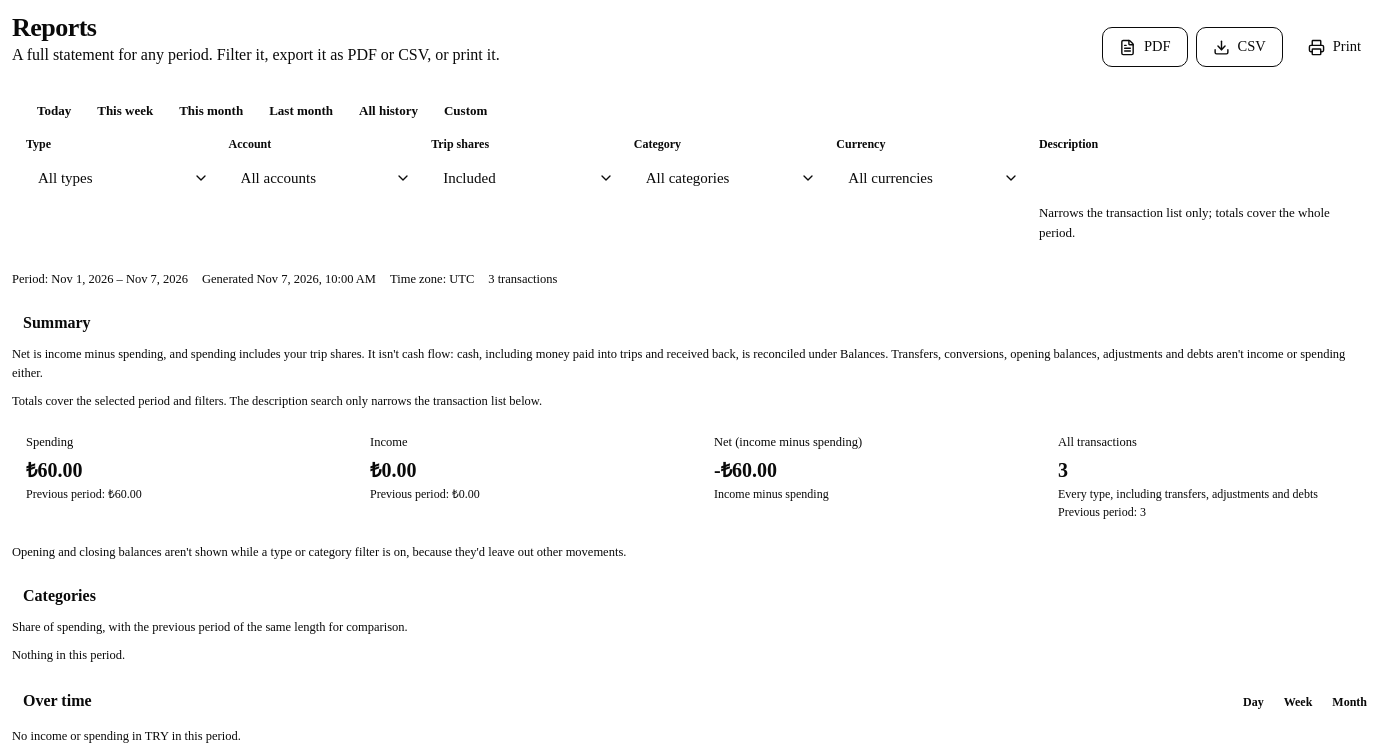
printing a report › prints the complete report from the API, not the loaded rows
The width and height of the screenshot is (1390, 751).
Click the button "Print" at (1334,47), box left=1291, top=27, right=1378, bottom=67
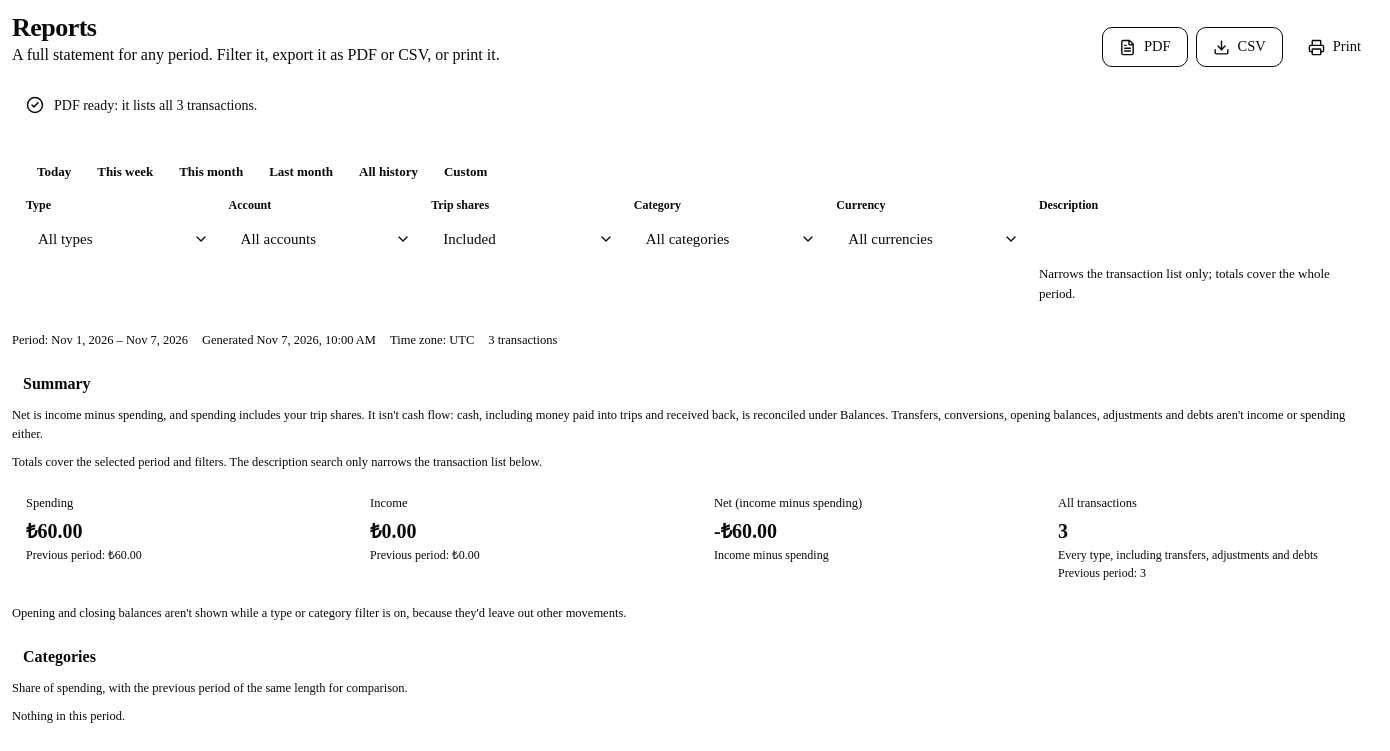
Check: the text "PDF ready: it lists all 3 transactions." is shown, box left=54, top=95, right=257, bottom=116
